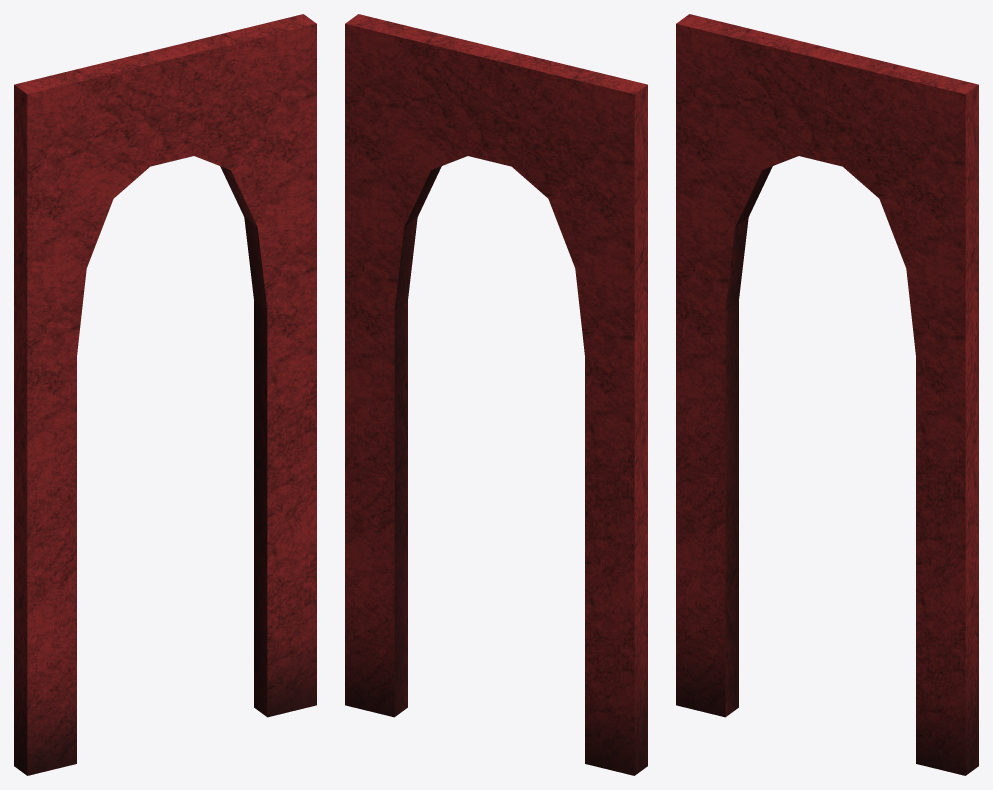
File: Big_Gate.fbx
3 views of the same model, side by side, from view 1: azimuth 30°, elevation 25°; view 2: azimuth 150°, elevation 25°; view 3: azimuth 330°, elevation 25° (orthographic).
Parts seen in each view (by area): view 1: Big_gate; view 2: Big_gate; view 3: Big_gate.
Boxes of the visible parts, x1,y1,x2,y2 form: Big_gate: (14,14,316,775); Big_gate: (345,14,647,775); Big_gate: (676,14,978,775).
Size of the model in its own units: 400 by 900 by 32.
